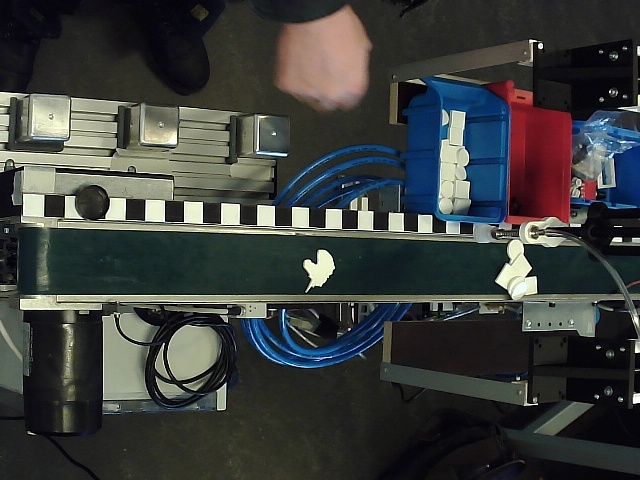unicorn: (302, 249, 336, 293)
